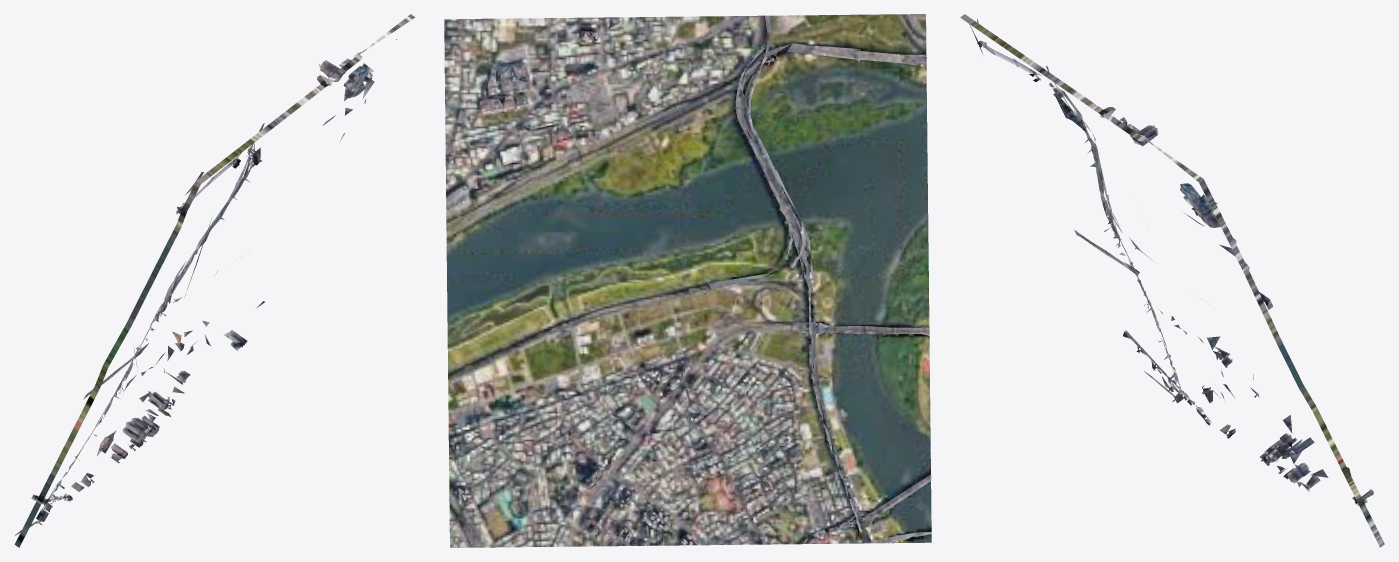
The picture shows the model from 3 angles, left to right: view 1: azimuth 30°, elevation 25°; view 2: azimuth 150°, elevation 25°; view 3: azimuth 270°, elevation 25°; orthographic projection. The views are drawn at different scales.
Bounding box in the file's own units: 2441 × 2240 × 2061.
Materials: 1 (1 with a texture image).
